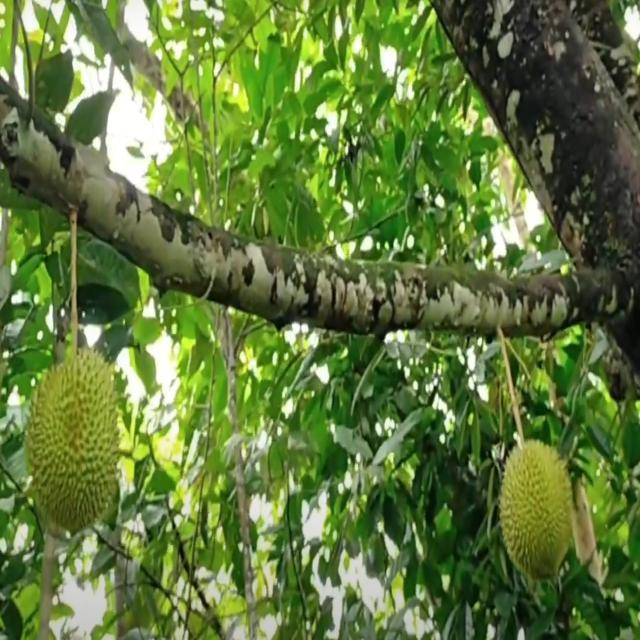immature: (25, 346, 121, 540), (501, 436, 573, 590)
